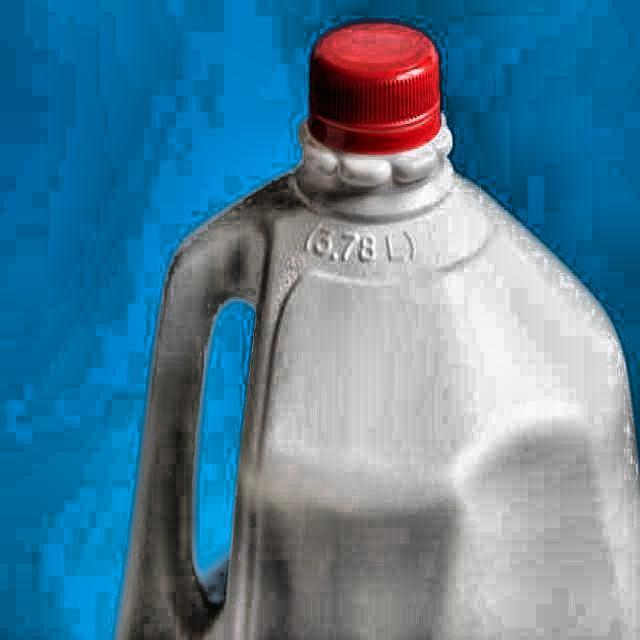plastic: (114, 20, 640, 640)
